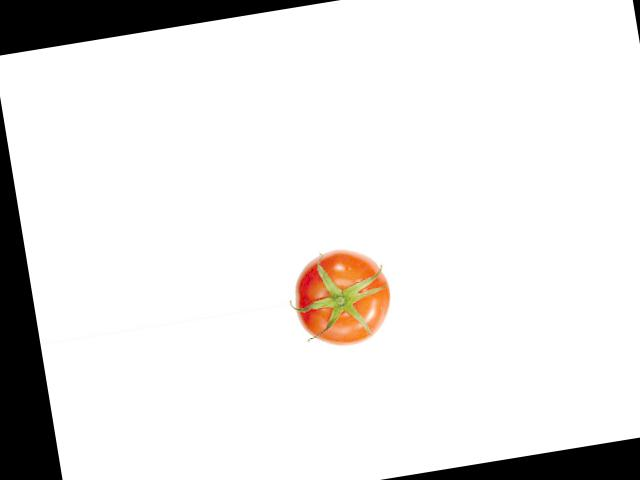tomato: (288, 242, 398, 352)
